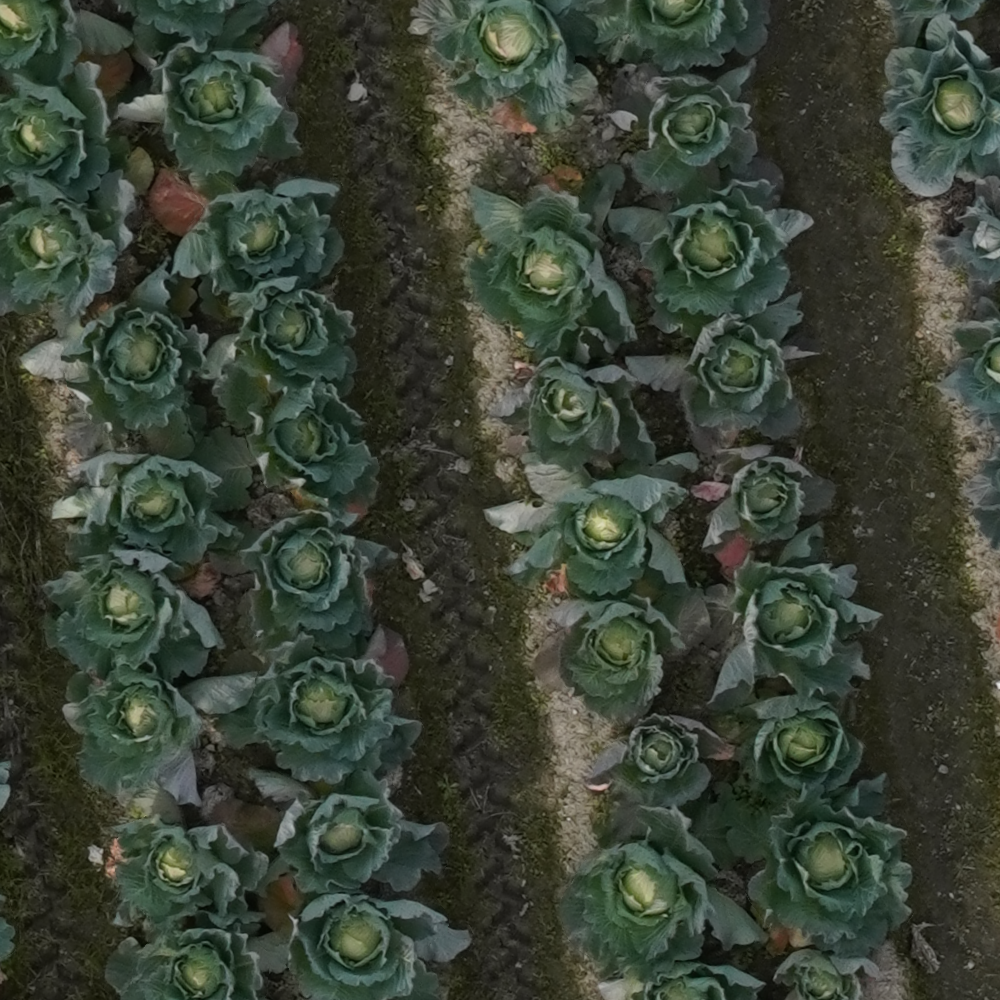Cabbage: (557, 794, 770, 981), (706, 772, 913, 958), (18, 258, 209, 459), (608, 157, 814, 343), (461, 163, 641, 363), (705, 522, 884, 711), (115, 3, 303, 179), (217, 626, 424, 781), (481, 452, 701, 597), (623, 292, 820, 453), (62, 665, 258, 821), (149, 167, 345, 318), (226, 765, 451, 896), (248, 870, 471, 1000), (206, 507, 399, 652), (190, 385, 380, 527), (1, 32, 155, 207), (408, 0, 604, 136), (41, 543, 225, 683), (202, 277, 358, 429), (0, 169, 137, 342), (553, 585, 710, 727), (50, 452, 244, 566), (880, 13, 1000, 197), (611, 58, 758, 208), (100, 816, 271, 943), (583, 714, 746, 840), (488, 355, 657, 473), (690, 445, 837, 567), (708, 692, 864, 805), (103, 911, 265, 1000), (585, 0, 773, 72), (112, 0, 276, 58), (0, 0, 132, 70), (936, 297, 1000, 438), (931, 174, 1000, 298), (597, 961, 765, 1000), (773, 949, 886, 1000), (886, 0, 988, 47), (961, 439, 1000, 552)
